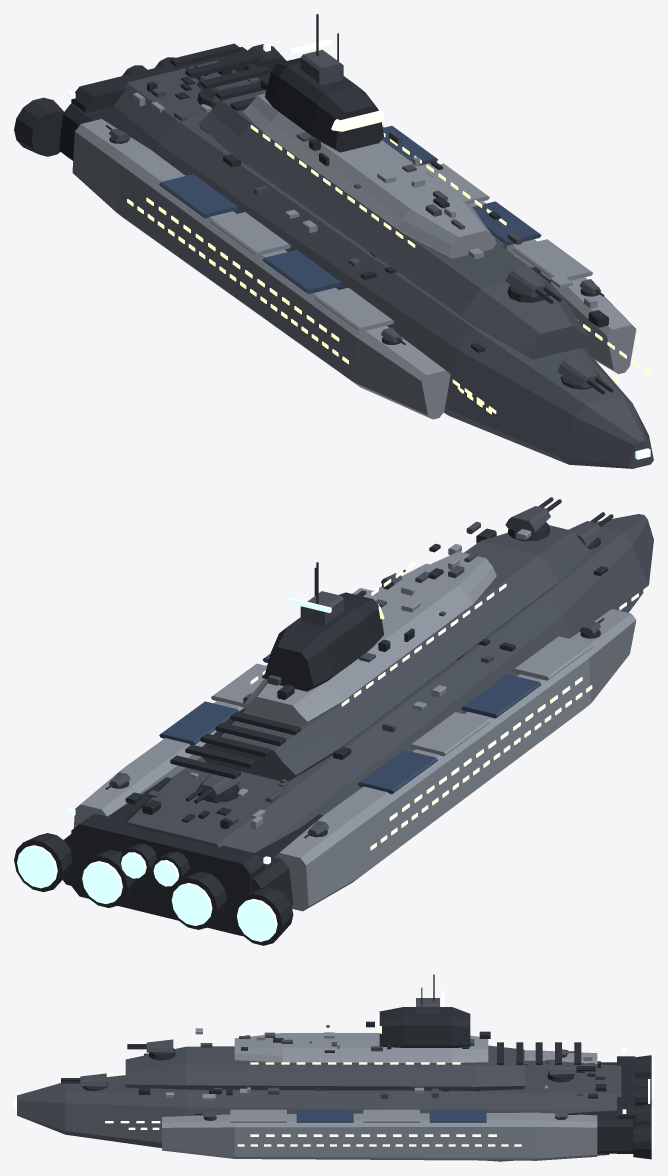
Rendered from frigate.glb.
3 views of the same model, one above another, from view 1: azimuth 30°, elevation 25°; view 2: azimuth 150°, elevation 25°; view 3: azimuth 270°, elevation 25° (orthographic). The views are drawn at different scales.
Visible parts, largest first — view 1: hull_frigate; view 2: hull_frigate; view 3: hull_frigate.
Boxes of the visible parts, x1,y1,x2,y2 form: hull_frigate: (14,14,653,468); hull_frigate: (14,497,653,945); hull_frigate: (14,974,653,1161).
Bounding box in the file's own units: 32.98 × 33.5 × 106.
